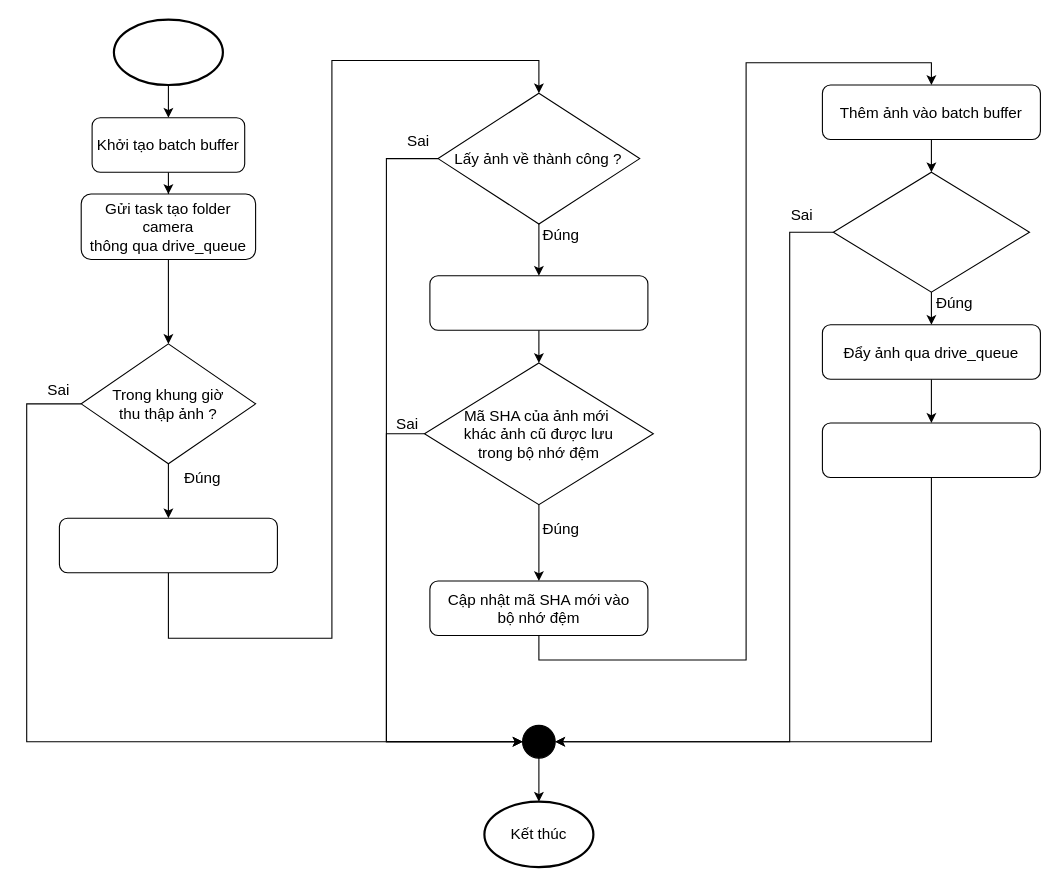
Image size: 1059x887. Some labels were removed from this diagram. Each missing label, with the centre of its shape:
Batch buffer đã gom ảnh trong 5 phút ?: (x=931, y=231)
Bắt đầu: (x=167, y=52)
Gửi yêu cầu HTTP để lấy ảnh từ camera: (x=167, y=545)
Tính toán mã SHA của ảnh vừa lấy: (x=538, y=302)
Xóa batch_buffer hiện tại: (x=930, y=449)
